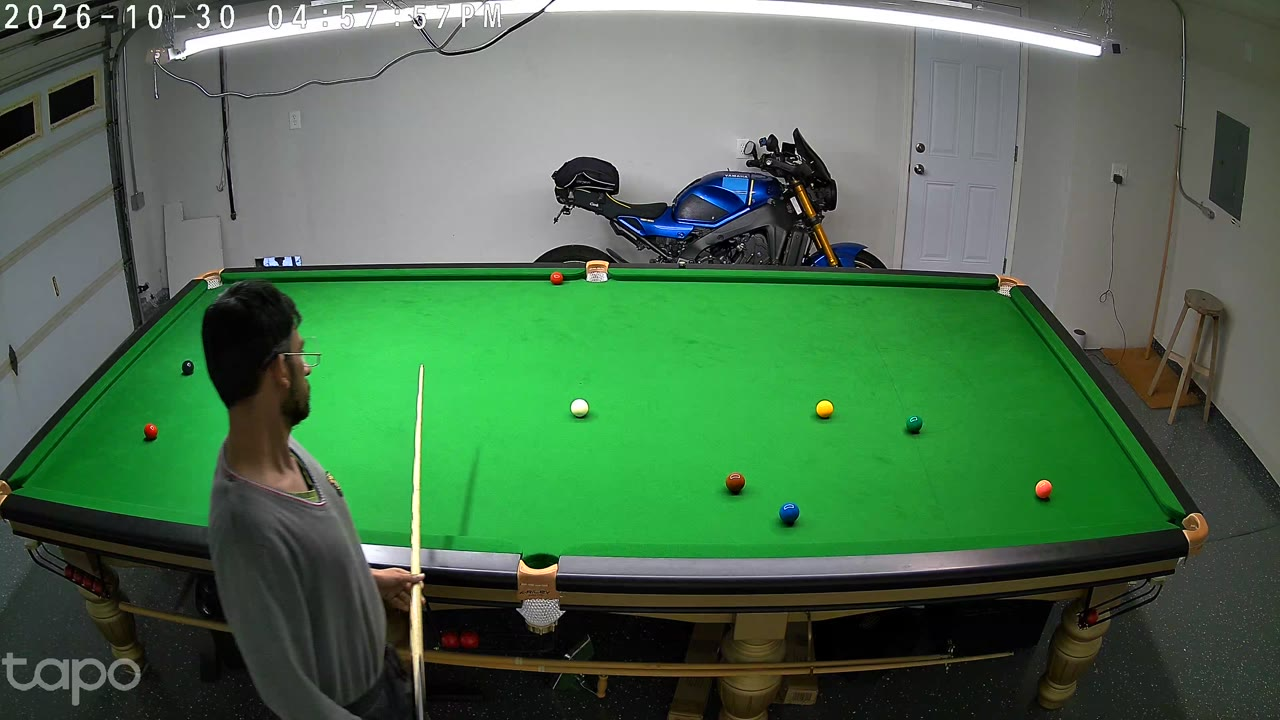black: (182, 358, 194, 377)
blue: (779, 499, 800, 529)
brown: (725, 471, 745, 498)
green: (906, 414, 922, 436)
pink: (419, 363, 424, 374)
red: (1035, 478, 1052, 502), (144, 422, 157, 442), (551, 271, 562, 287)
white: (571, 397, 589, 420)
yellow: (817, 399, 833, 421)
